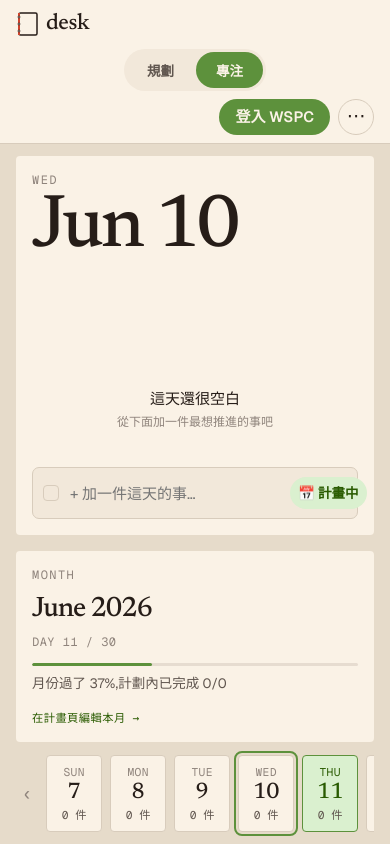
mobile chip arrows page the week without navigating the focus day
Step 1. Click the button named "上一週" → [27, 793], box [16,755,38,832]
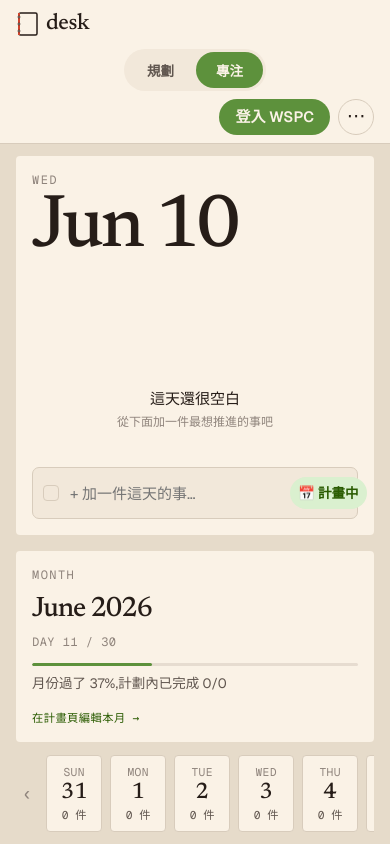
Expected: the link with aria-label "切到 2026-06-03" is shown, [238,755,294,832]
